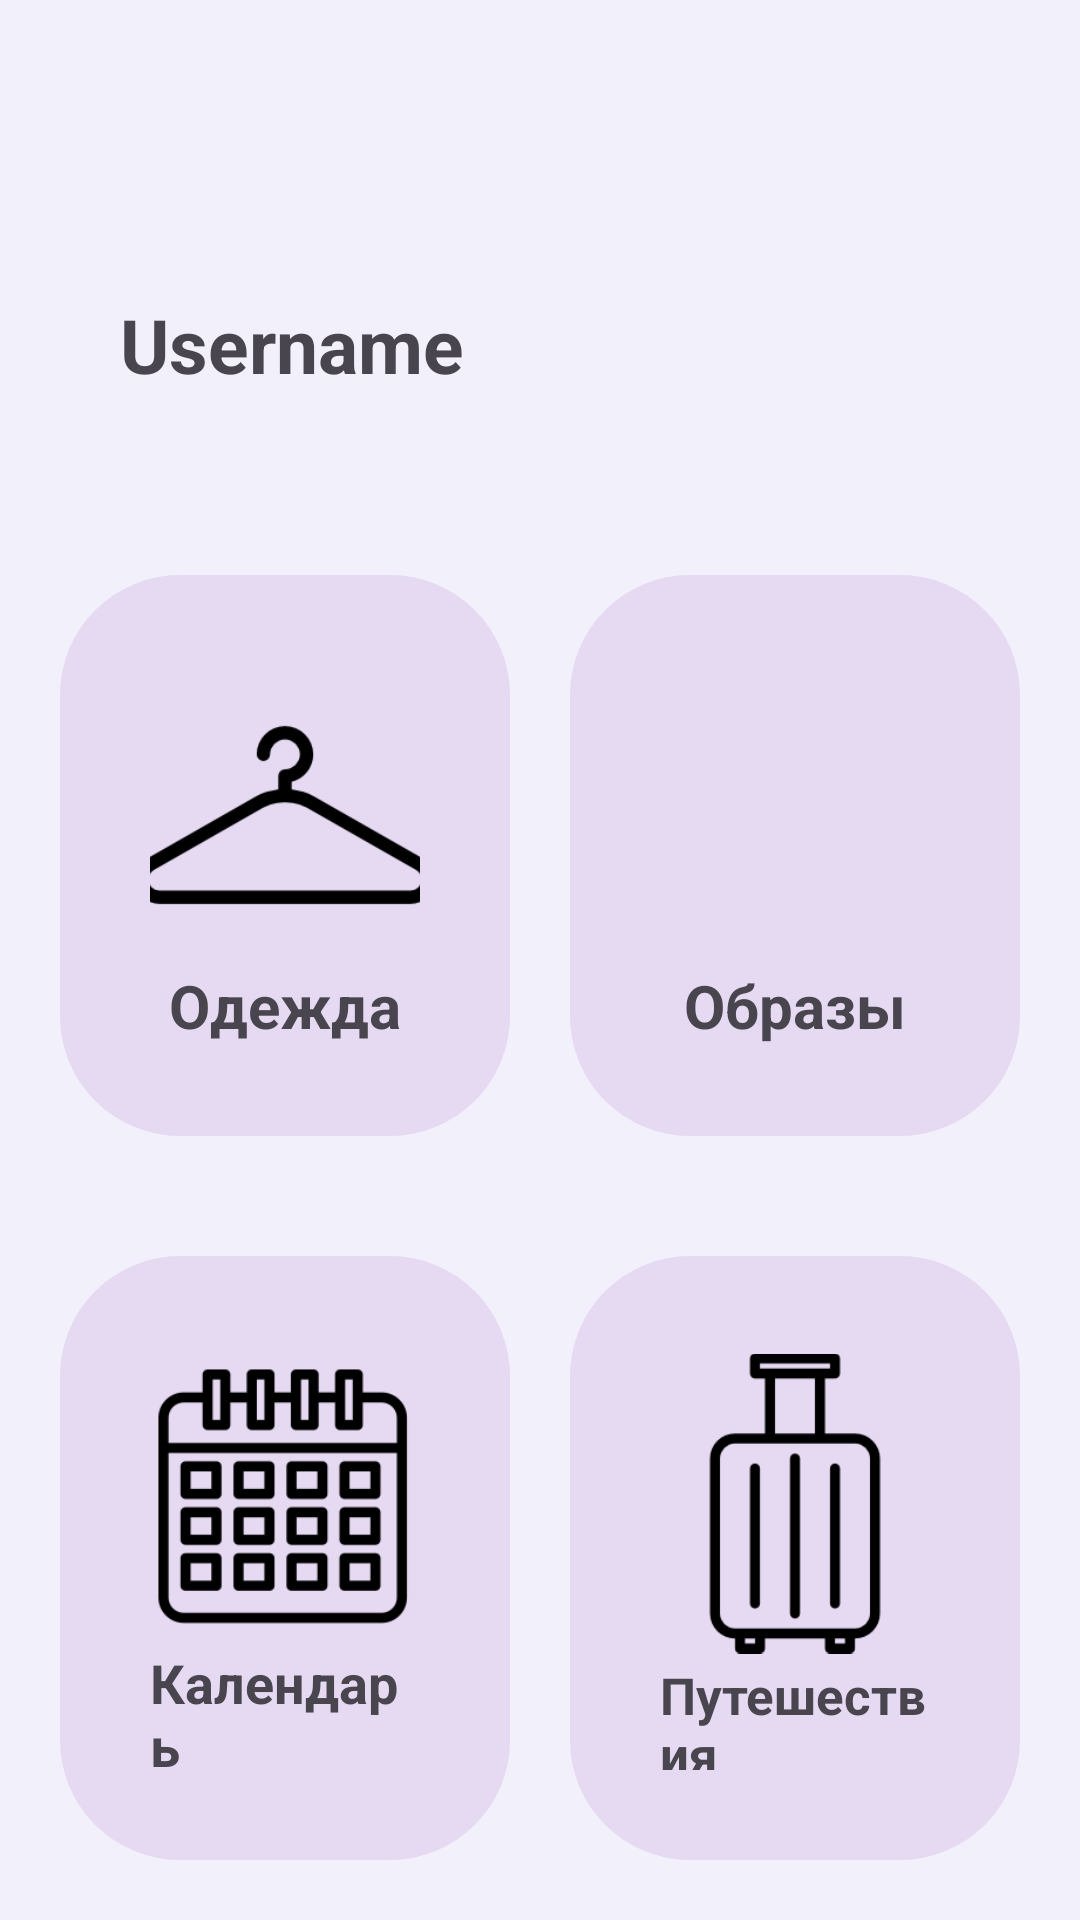

Where to tap for icons on this 1080*1920 app screen, as [x,y]:
luggage: [795,1504]
